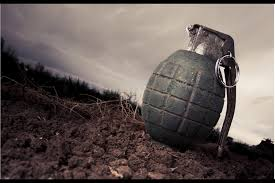bomb: (142, 24, 241, 159)
